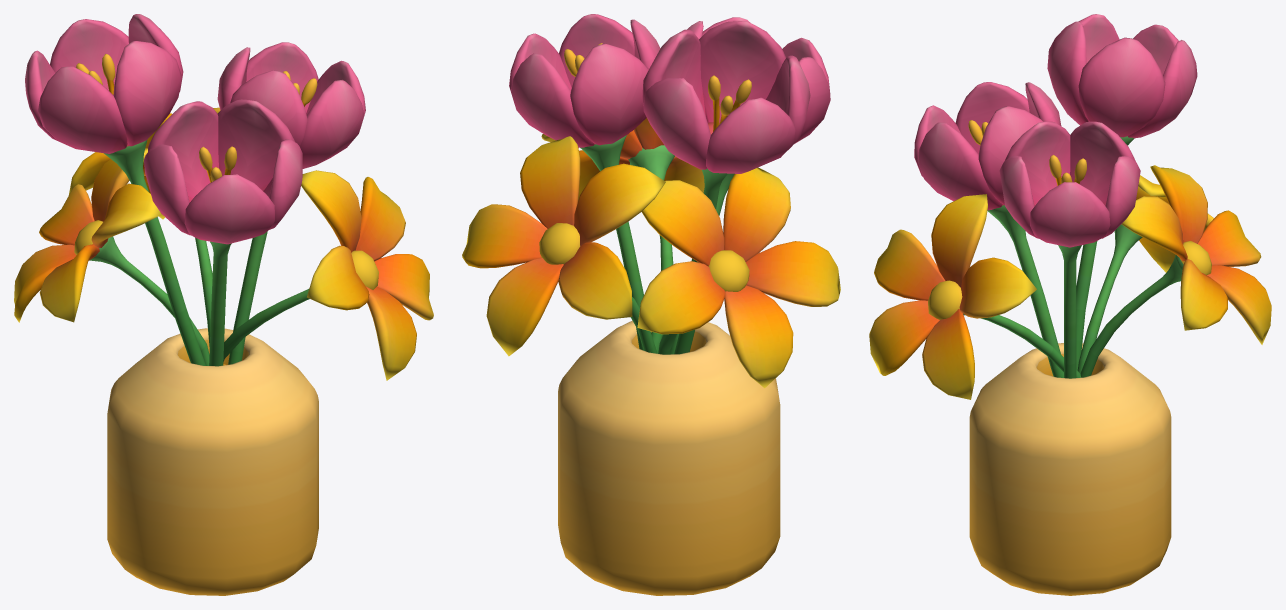
The model's file is Plants_10.glb.
The picture shows the model from 3 angles, left to right: view 1: azimuth 30°, elevation 25°; view 2: azimuth 150°, elevation 25°; view 3: azimuth 270°, elevation 25°; orthographic projection. The views are drawn at different scales.
Visible parts, largest first — view 1: Plants_10; view 2: Plants_10; view 3: Plants_10.
Boxes of the visible parts, left/top/right/bottom form: Plants_10: left=14, top=14, right=433, bottom=595; Plants_10: left=462, top=14, right=840, bottom=595; Plants_10: left=869, top=14, right=1271, bottom=595.
Size of the model in its own units: 0.3429 by 0.539 by 0.3887.
Materials: 1 (1 with a texture image).
